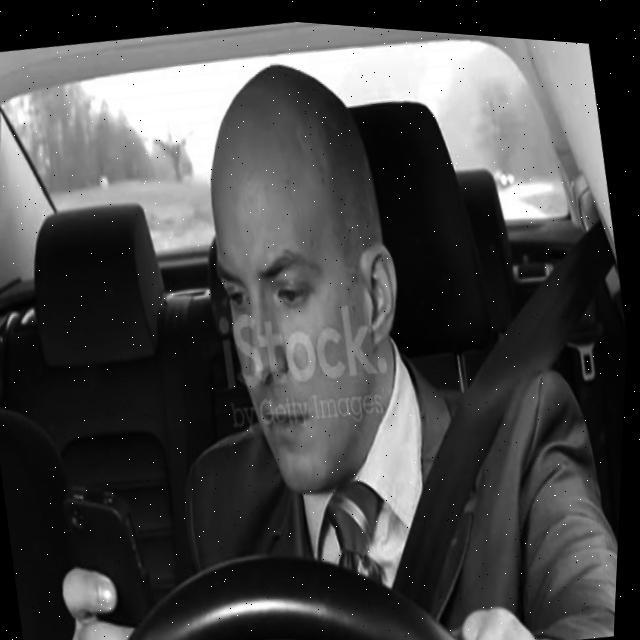PhoneCall: (60, 476, 170, 640)
